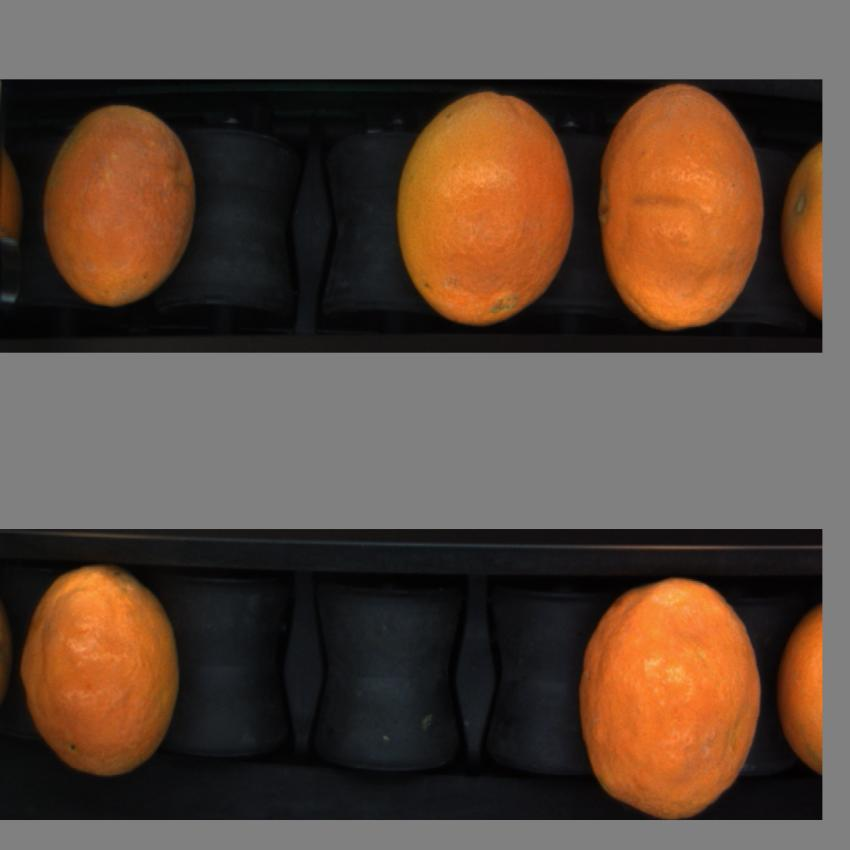Buen estado: (391, 92, 580, 326), (579, 579, 763, 815), (18, 564, 184, 784), (778, 134, 824, 325), (776, 595, 822, 772)
Mal estado: (596, 88, 768, 330), (40, 97, 201, 311)
